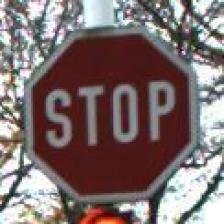Stop: (20, 20, 206, 206)
